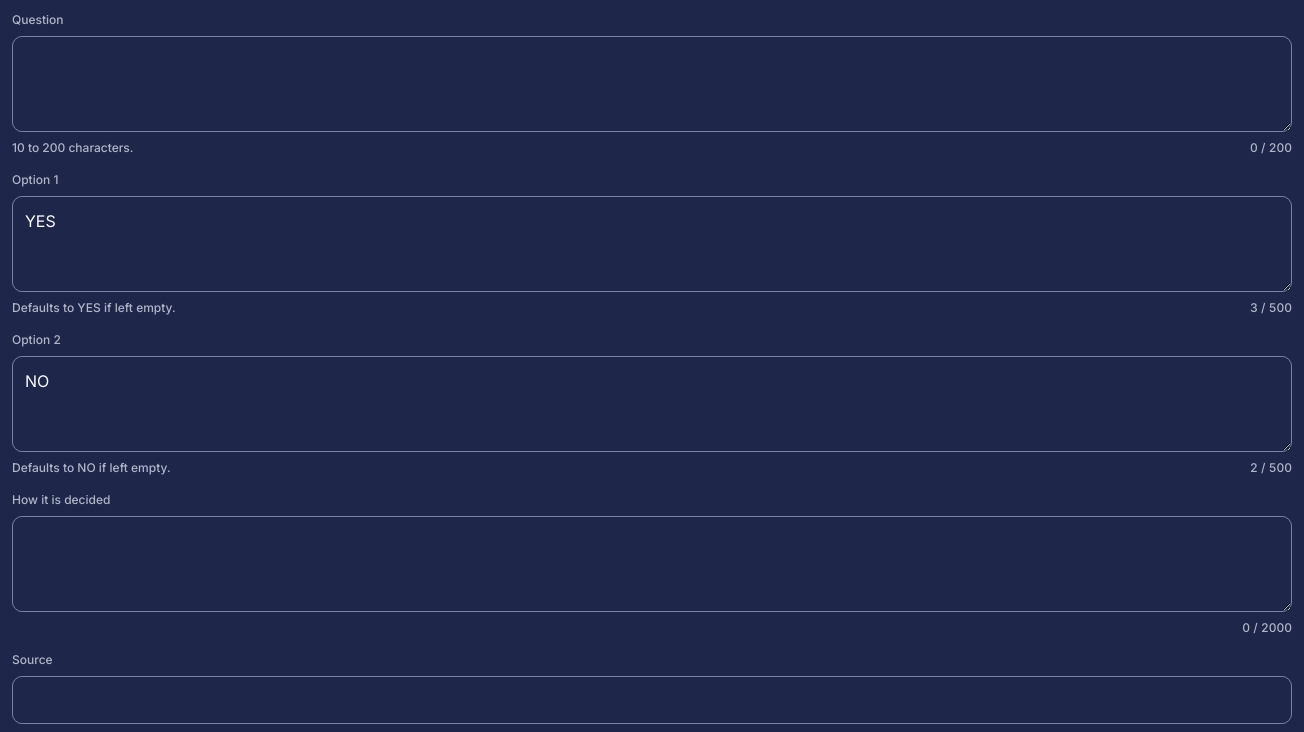
Test: the form › keyboard focus also lets typing replace the default
Click the text box labelled "Question". click: (652, 84)
box: [12, 36, 1292, 132]
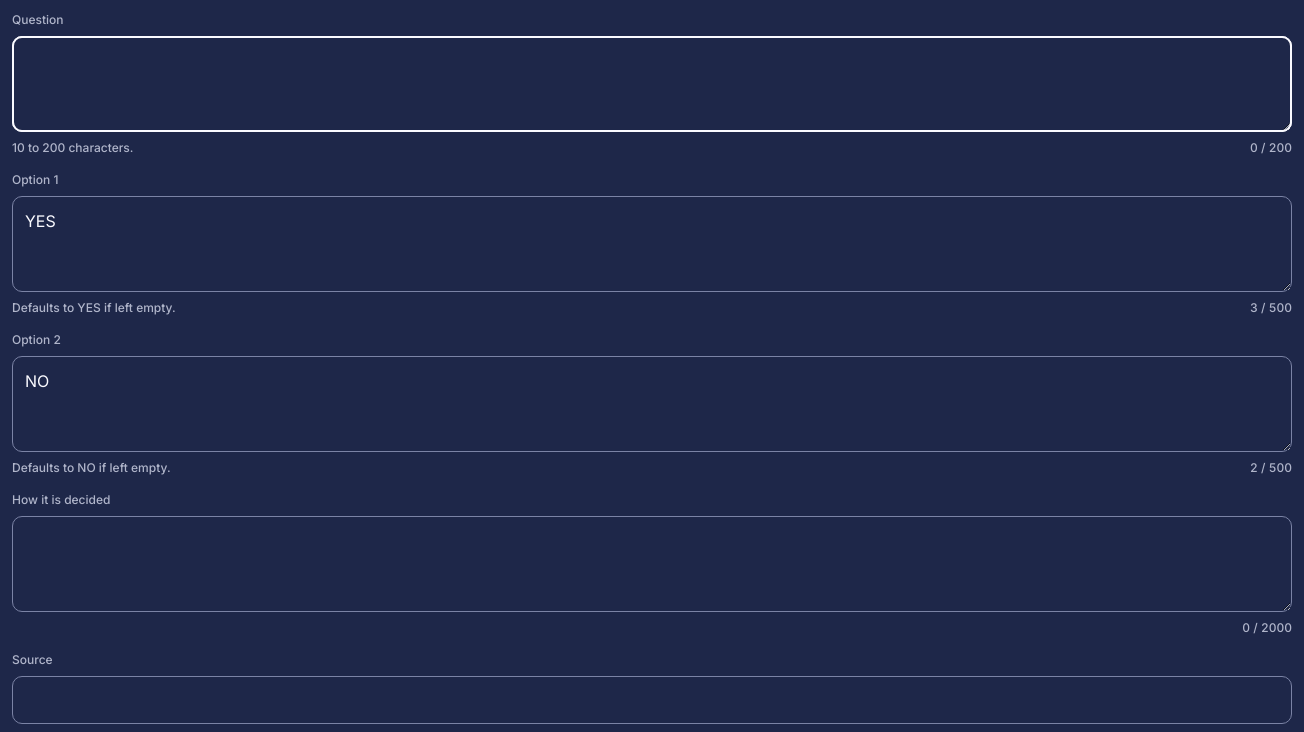
Press Tab
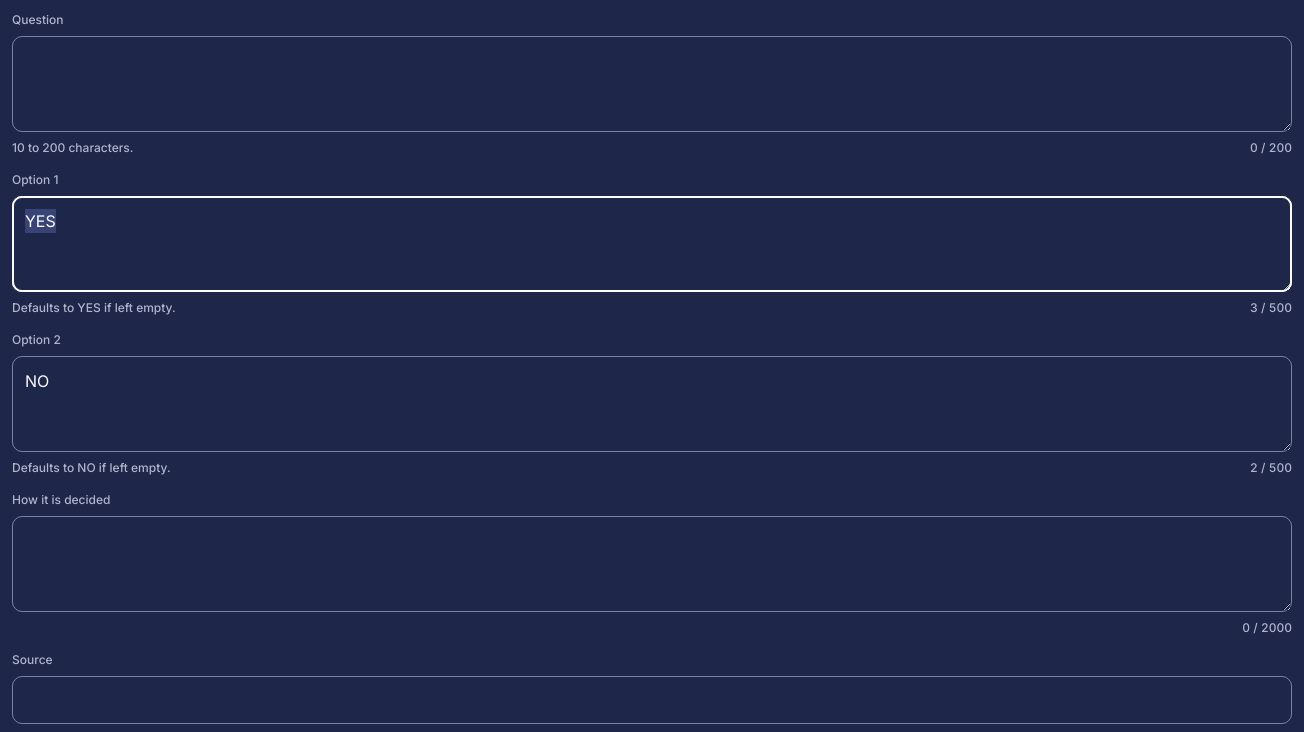
Type keys "Alice"
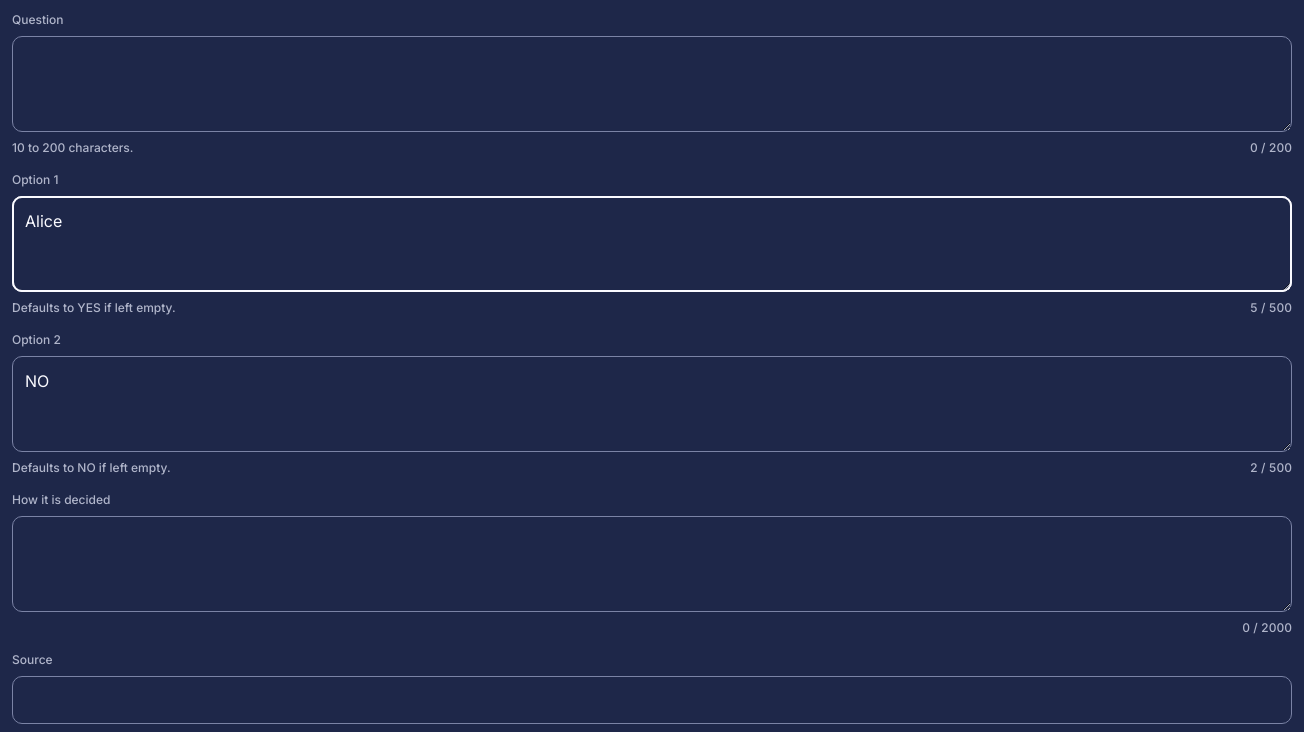
Expected: the text box labelled "Option 1" holds "Alice", [12, 196, 1292, 292]
Press Tab
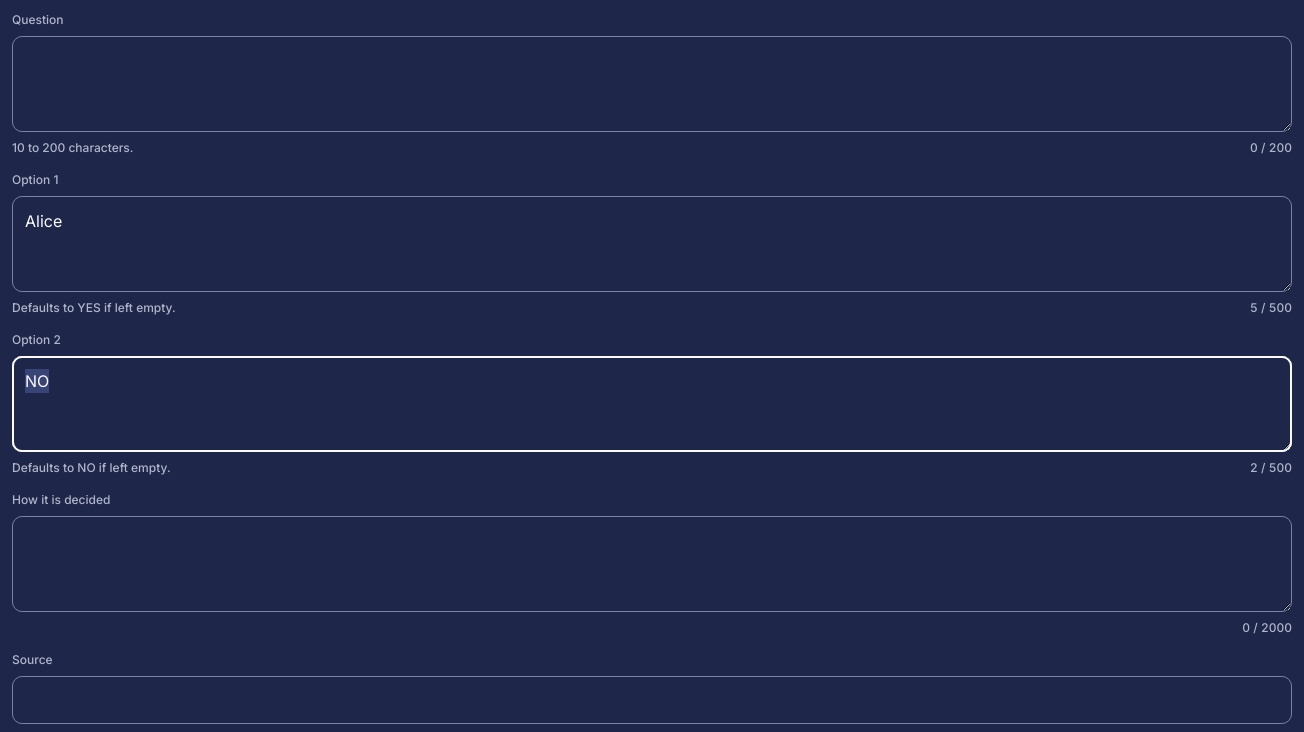
Type keys "Bob"
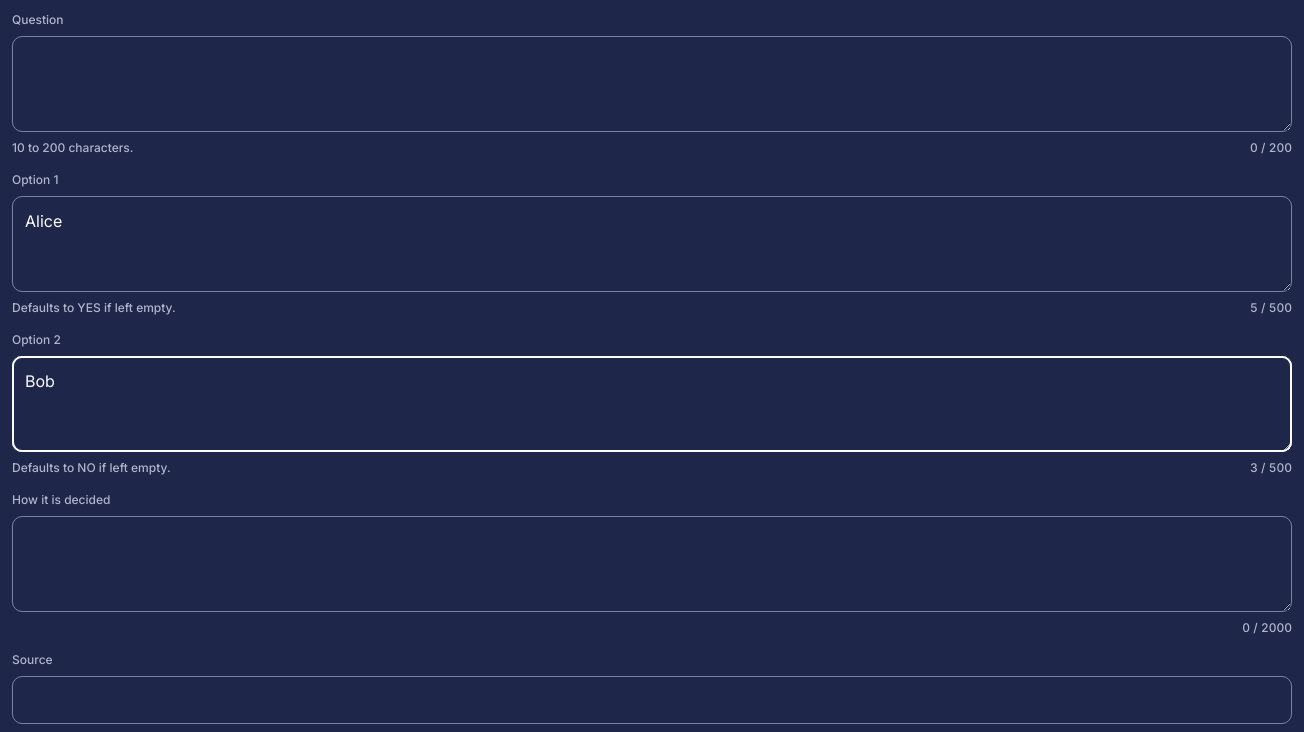
Expected: the text box labelled "Option 2" holds "Bob", [12, 356, 1292, 452]
